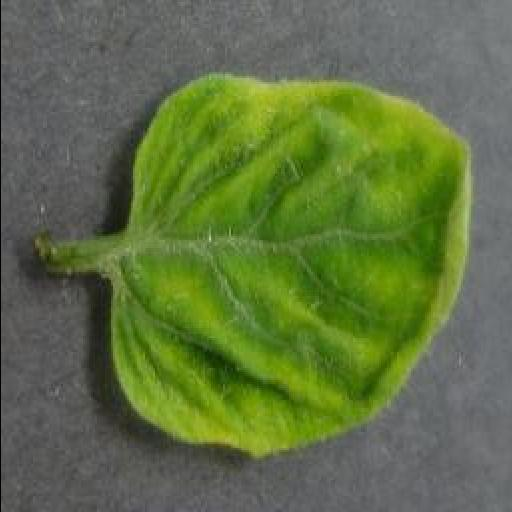disease_tomato: (106, 78, 472, 462)
